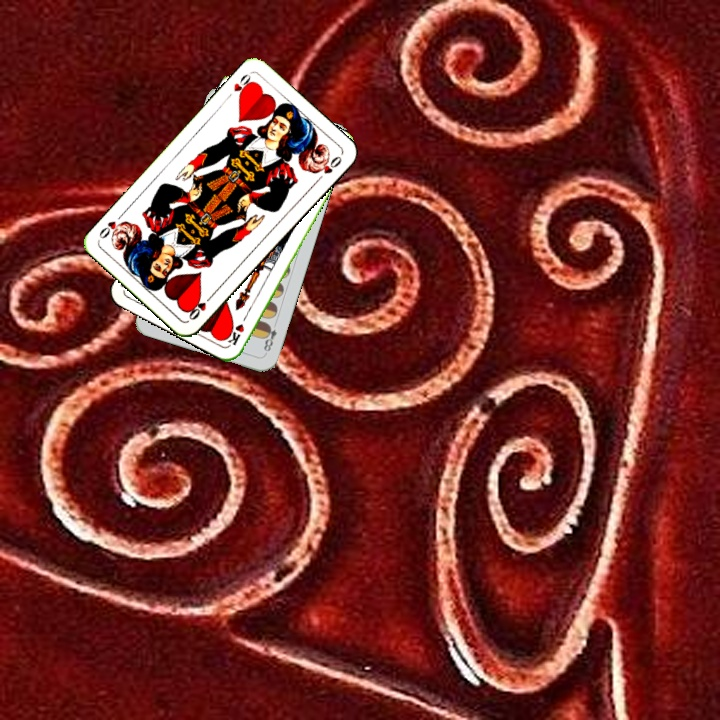E8: (259, 318, 280, 357)
HK: (223, 309, 251, 347)
HO: (185, 290, 216, 323), (229, 70, 256, 101)
